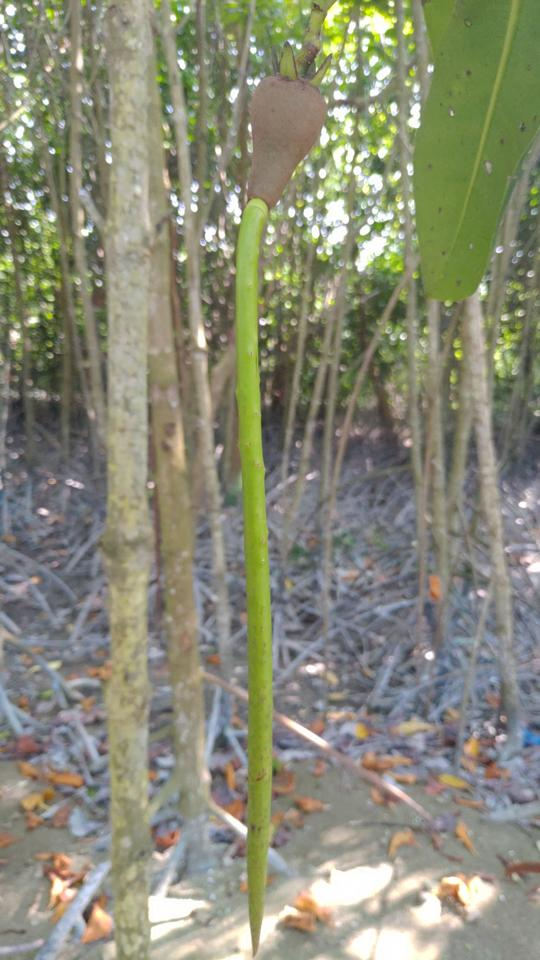setengah matang: (219, 41, 338, 959)
